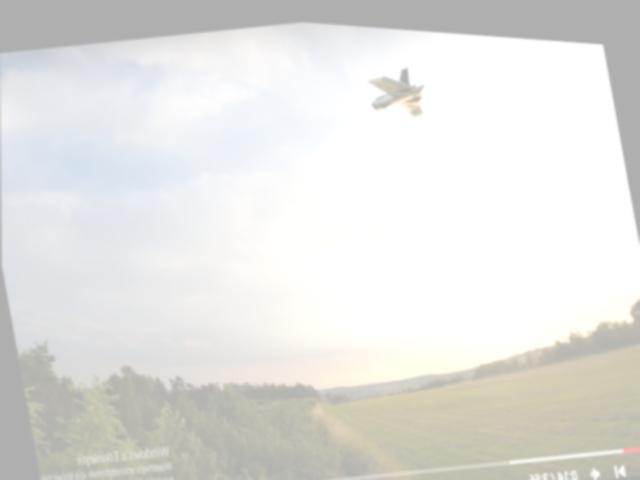plane: (364, 54, 429, 118)
